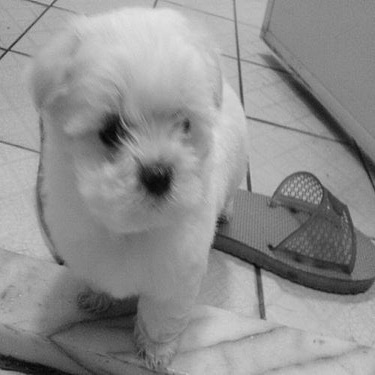dog: (17, 1, 250, 372)
